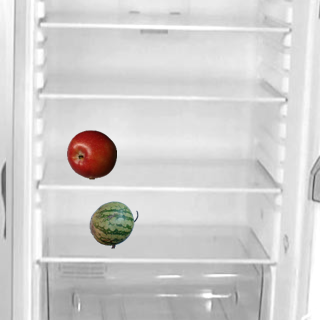Apple Braeburn: (66, 129, 116, 179)
Watermelon: (88, 199, 138, 249)
